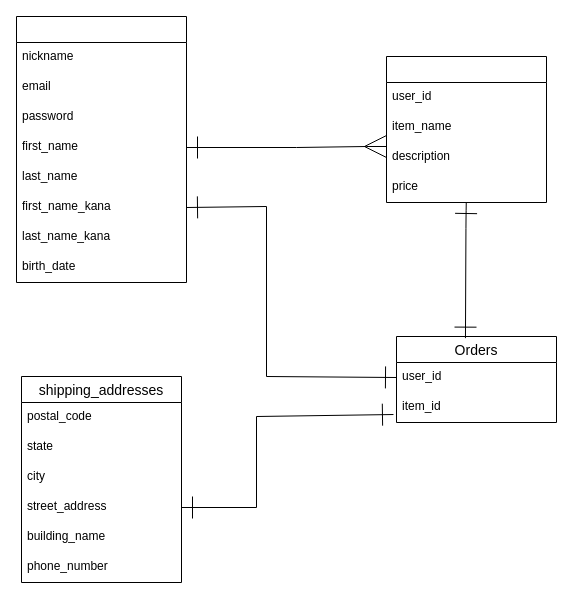
This 573x599 diagram has some shape labels left out. The box of each missing label's shape, as (x1, y1, x2, y2) in pixels:
Items: (386, 56, 546, 202)
Users: (16, 16, 186, 282)
